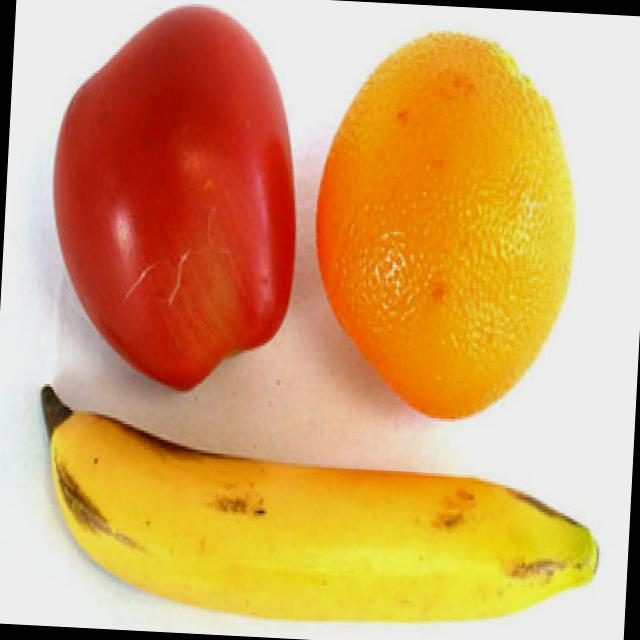apple: (43, 0, 314, 405)
banana: (16, 397, 587, 640)
orange: (300, 22, 588, 428)
